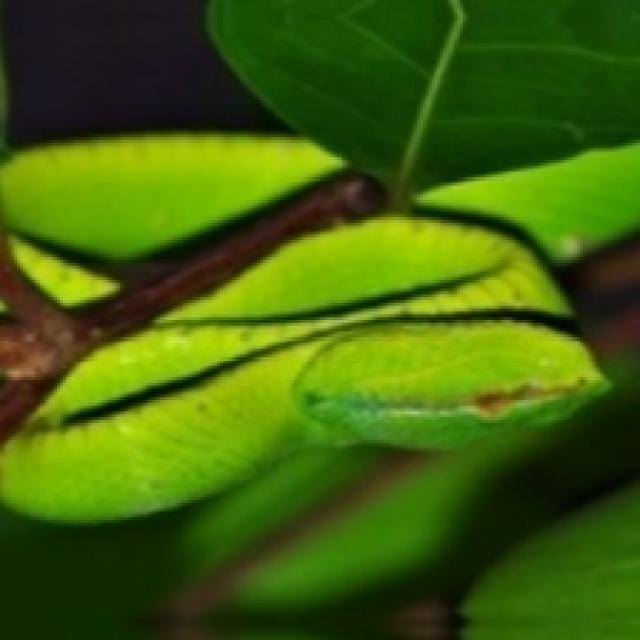north ph temple pitviper: (0, 214, 603, 520)
